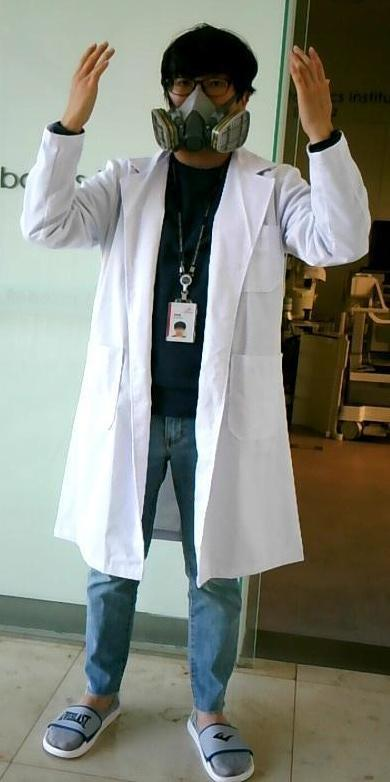lab_coat: (54, 170, 312, 556)
